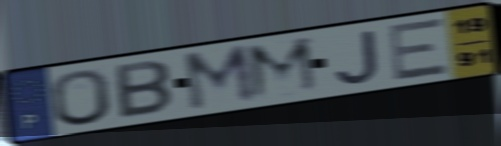B: (113, 58, 175, 122)
E: (388, 15, 452, 84)
J: (332, 27, 382, 87)
M: (180, 41, 259, 115), (244, 34, 324, 104)
O: (48, 68, 115, 129)
